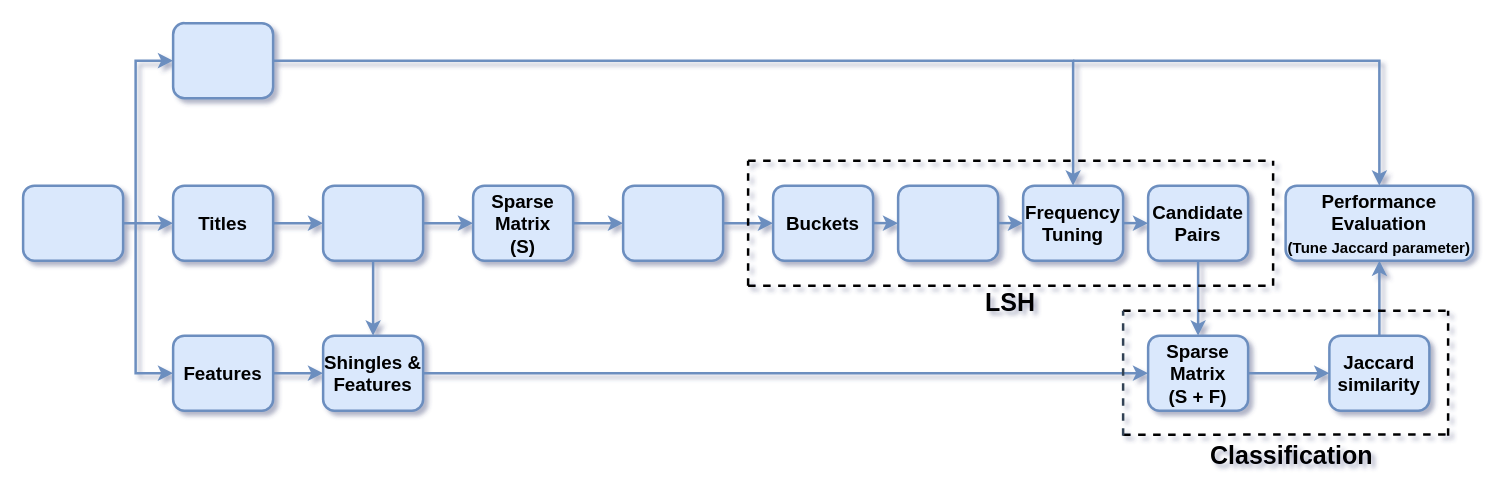
Some shapes in this 1503 by 501 pixel diagram are drawn without their labels. Each missing label, with the centre of its shape:
Labels: (222,60)
Raw data: (72,222)
Shingles: (372,222)
Signature Matrix: (672,222)
Similarity Matrix: (947,222)
